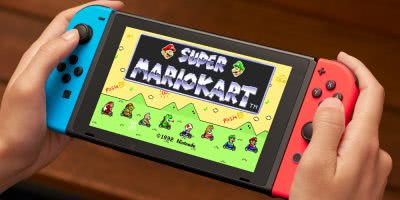NintendoSwitch: (31, 4, 360, 199)
